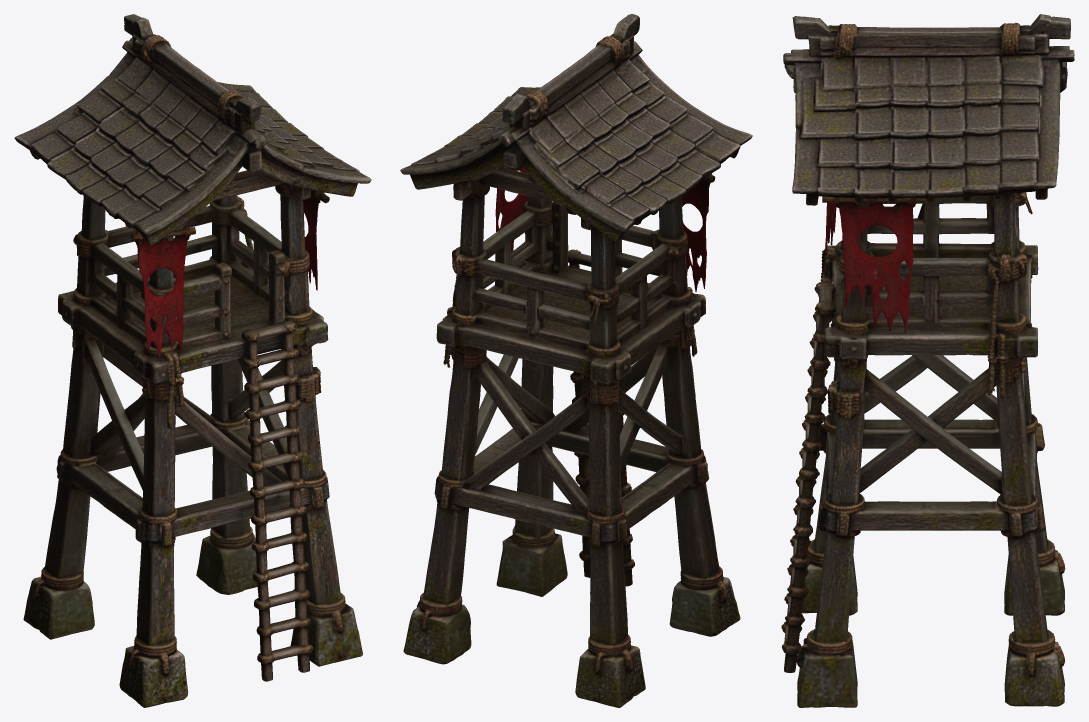
The model's file is 監視場.fbx.
The picture shows the model from 3 angles, left to right: view 1: azimuth 30°, elevation 25°; view 2: azimuth 150°, elevation 25°; view 3: azimuth 270°, elevation 25°; orthographic projection. The views are drawn at different scales.
Visible parts, largest first — view 1: medieval wooden watchtower 3d model; view 2: medieval wooden watchtower 3d model; view 3: medieval wooden watchtower 3d model.
Boxes of the visible parts, x1=… form: medieval wooden watchtower 3d model: x1=14, y1=14, x2=371, y2=707; medieval wooden watchtower 3d model: x1=400, y1=14, x2=752, y2=707; medieval wooden watchtower 3d model: x1=781, y1=14, x2=1074, y2=707.
Size of the model in its own units: 41.11 by 98.21 by 41.12.
1 material, 1 textured.
